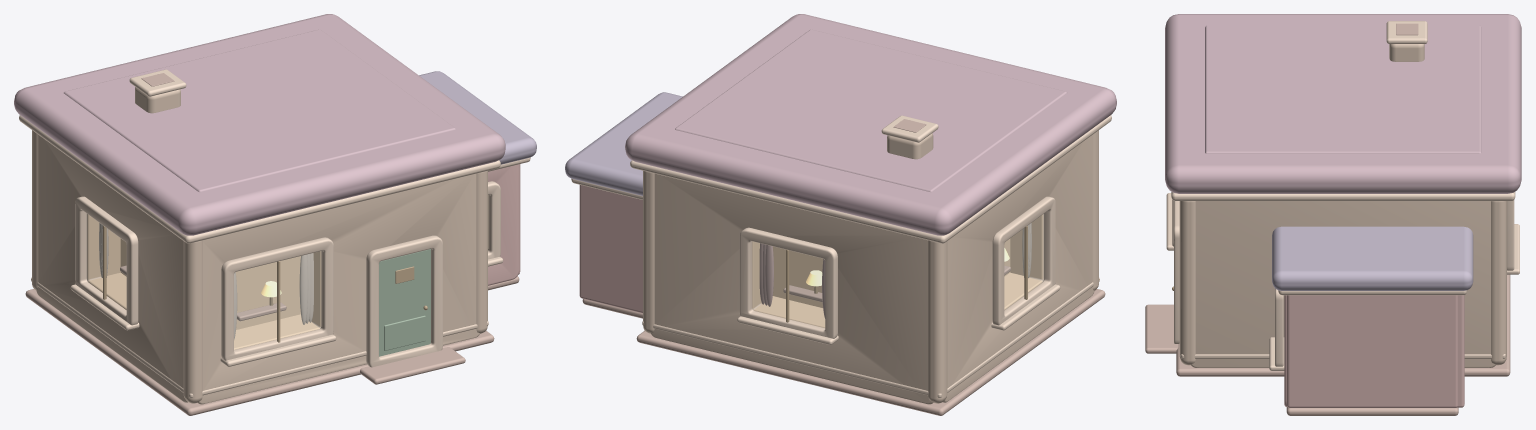
The model's file is annex.glb.
The picture shows the model from 3 angles, left to right: view 1: azimuth 30°, elevation 25°; view 2: azimuth 150°, elevation 25°; view 3: azimuth 270°, elevation 25°; orthographic projection.
Visible parts, largest first — view 1: NW92 detached annex NW92_roof, NW92 detached annex NW92_ivory, NW92 detached annex NW92_trim, NW92 detached annex room59_glass_sage, NW92 detached annex NW92_room, NW92 detached annex NW92_stone, NW92 detached annex NW92_door, NW92 detached annex NW92_blush, NW92 detached annex NW92_lilac, NW92 detached annex NW92_curtain, NW92 detached annex NW92_brass; view 2: NW92 detached annex NW92_roof, NW92 detached annex NW92_ivory, NW92 detached annex NW92_trim, NW92 detached annex NW92_blush, NW92 detached annex room59_glass_sage, NW92 detached annex NW92_stone, NW92 detached annex NW92_room, NW92 detached annex NW92_lilac, NW92 detached annex NW92_curtainRose, NW92 detached annex NW92_brass; view 3: NW92 detached annex NW92_roof, NW92 detached annex NW92_ivory, NW92 detached annex NW92_blush, NW92 detached annex NW92_lilac, NW92 detached annex NW92_trim, NW92 detached annex NW92_stone.
Part boxes in pixels (bbox=[...]): NW92 detached annex NW92_roof: bbox=[14, 14, 505, 235]; NW92 detached annex NW92_ivory: bbox=[32, 87, 487, 404]; NW92 detached annex NW92_trim: bbox=[19, 69, 530, 397]; NW92 detached annex room59_glass_sage: bbox=[87, 214, 320, 349]; NW92 detached annex NW92_room: bbox=[87, 195, 488, 349]; NW92 detached annex NW92_stone: bbox=[25, 73, 519, 415]; NW92 detached annex NW92_door: bbox=[379, 249, 430, 356]; NW92 detached annex NW92_blush: bbox=[488, 164, 520, 285]; NW92 detached annex NW92_lilac: bbox=[419, 71, 536, 164]; NW92 detached annex NW92_curtain: bbox=[99, 223, 313, 339]; NW92 detached annex NW92_brass: bbox=[103, 225, 427, 342]; NW92 detached annex NW92_roof: bbox=[625, 14, 1116, 235]; NW92 detached annex NW92_ivory: bbox=[643, 130, 1098, 404]; NW92 detached annex NW92_trim: bbox=[571, 115, 1111, 397]; NW92 detached annex NW92_blush: bbox=[579, 185, 642, 313]; NW92 detached annex room59_glass_sage: bbox=[753, 214, 1043, 327]; NW92 detached annex NW92_stone: bbox=[582, 119, 1105, 415]; NW92 detached annex NW92_room: bbox=[752, 214, 1043, 327]; NW92 detached annex NW92_lilac: bbox=[565, 92, 682, 195]; NW92 detached annex NW92_curtainRose: bbox=[759, 243, 825, 318]; NW92 detached annex NW92_brass: bbox=[786, 225, 1027, 322]; NW92 detached annex NW92_roof: bbox=[1165, 14, 1521, 193]; NW92 detached annex NW92_ivory: bbox=[1179, 44, 1506, 367]; NW92 detached annex NW92_blush: bbox=[1284, 295, 1464, 407]; NW92 detached annex NW92_lilac: bbox=[1272, 226, 1473, 290]; NW92 detached annex NW92_trim: bbox=[1166, 21, 1519, 370]; NW92 detached annex NW92_stone: bbox=[1145, 23, 1510, 415].
Bounding box in the file's own units: 11.4 × 6.26 × 8.97.
